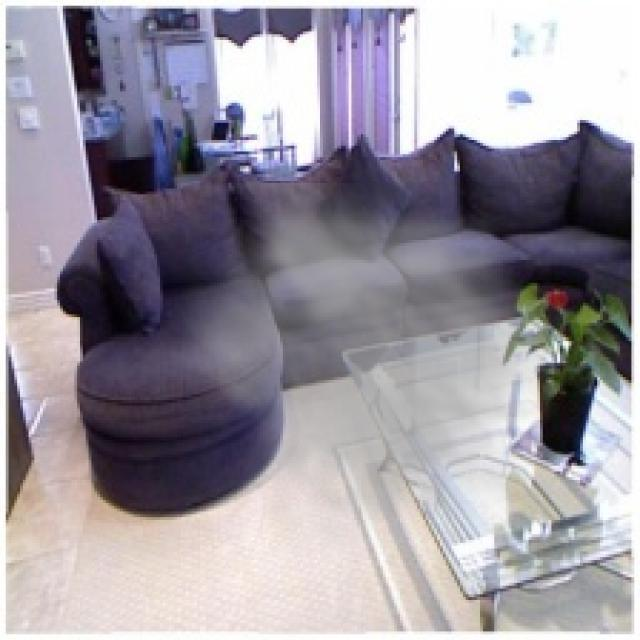Smoke: (165, 183, 578, 560)
